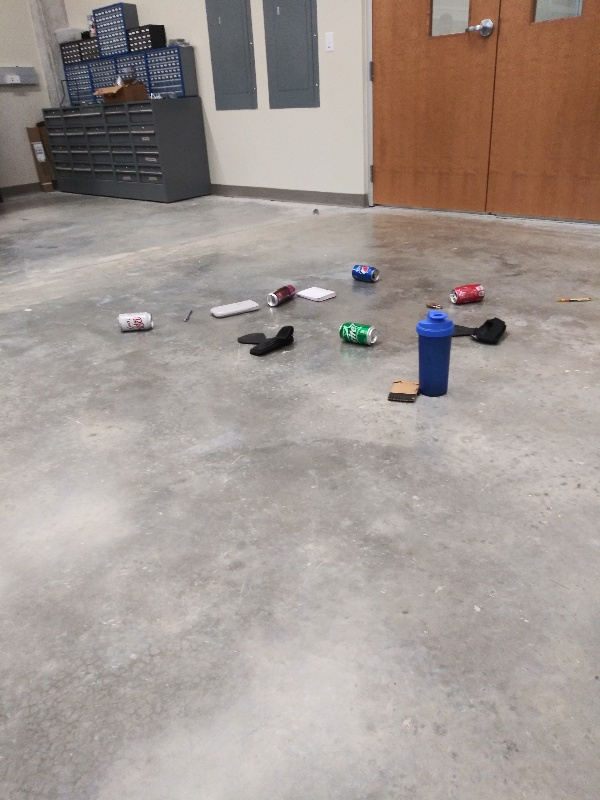can: (338, 319, 379, 347), (114, 308, 156, 334), (446, 281, 487, 306), (264, 281, 298, 309), (349, 261, 382, 283)
